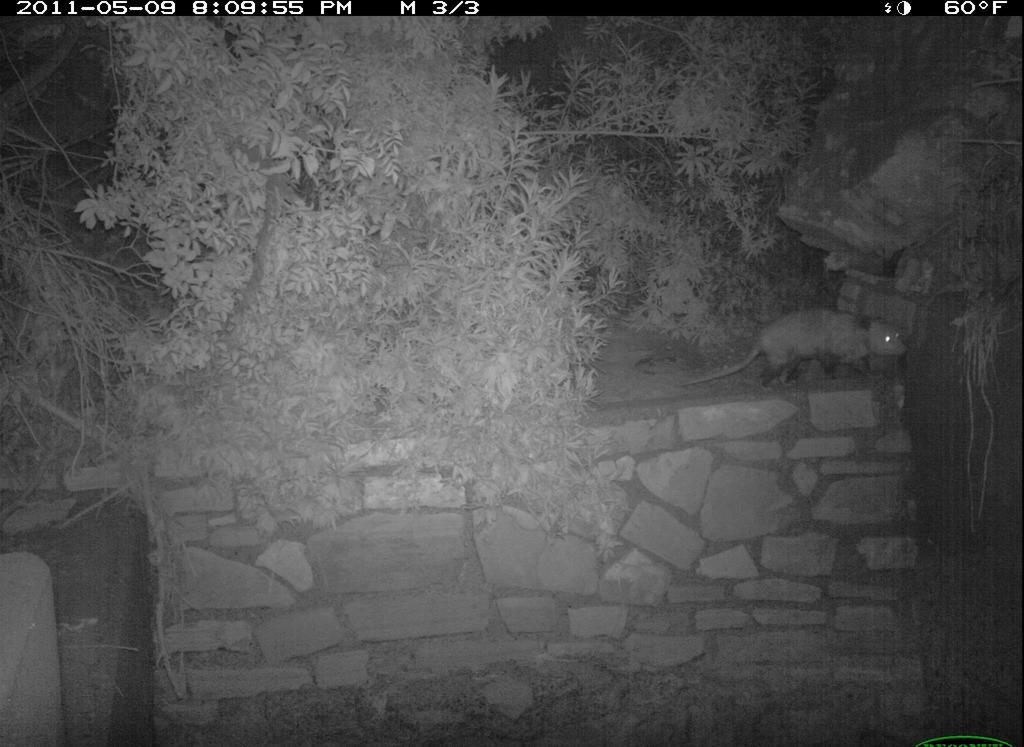opossum: (683, 301, 917, 408)
